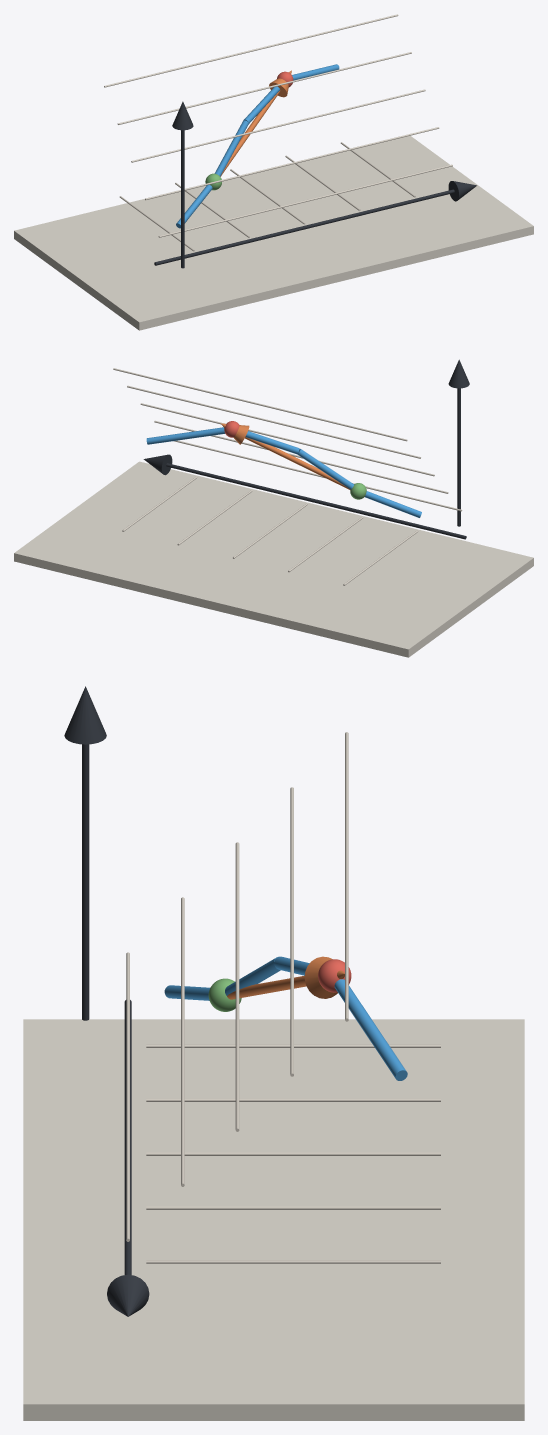
File: math-advanced-math-calc-rate-of-change.glb
3 views of the same model, one above another, from view 1: azimuth 30°, elevation 25°; view 2: azimuth 150°, elevation 25°; view 3: azimuth 270°, elevation 25° (orthographic). The views are drawn at different scales.
Parts seen in each view (by area): view 1: advanced-math-base, math-calc-rate-of-change-x-axis-shaft, math-calc-rate-of-change-horizontal-grid-5, math-calc-rate-of-change-horizontal-grid-3, math-calc-rate-of-change-horizontal-grid-1, math-calc-rate-of-change-horizontal-grid-2, math-calc-rate-of-change-horizontal-grid-4, math-calc-rate-of-change-y-axis-shaft, smooth-function-curve-segment-2, average-change-arrow-shaft; view 2: advanced-math-base, math-calc-rate-of-change-x-axis-shaft, math-calc-rate-of-change-horizontal-grid-4, math-calc-rate-of-change-horizontal-grid-5, math-calc-rate-of-change-horizontal-grid-3, math-calc-rate-of-change-horizontal-grid-1, math-calc-rate-of-change-horizontal-grid-2, smooth-function-curve-segment-4, average-change-arrow-shaft, math-calc-rate-of-change-y-axis-shaft, smooth-function-curve-segment-2, smooth-function-curve-segment-1 (+2 smaller); view 3: advanced-math-base, math-calc-rate-of-change-y-axis-shaft, smooth-function-curve-segment-4, math-calc-rate-of-change-x-axis-shaft, math-calc-rate-of-change-horizontal-grid-3, math-calc-rate-of-change-y-axis-head, math-calc-rate-of-change-x-axis-head, math-calc-rate-of-change-vertical-grid-4, math-calc-rate-of-change-vertical-grid-5, math-calc-rate-of-change-vertical-grid-3, math-calc-rate-of-change-horizontal-grid-4, math-calc-rate-of-change-horizontal-grid-1 (+4 smaller).
Boxes of the visible parts, box(x1,y1,x2,y2) form: advanced-math-base: box(14, 135, 533, 330); math-calc-rate-of-change-x-axis-shaft: box(154, 189, 454, 265); math-calc-rate-of-change-horizontal-grid-5: box(104, 14, 398, 87); math-calc-rate-of-change-horizontal-grid-3: box(131, 89, 425, 162); math-calc-rate-of-change-horizontal-grid-1: box(158, 164, 452, 237); math-calc-rate-of-change-horizontal-grid-2: box(145, 127, 439, 200); math-calc-rate-of-change-horizontal-grid-4: box(117, 52, 411, 124); math-calc-rate-of-change-y-axis-shaft: box(181, 130, 184, 268); smooth-function-curve-segment-2: box(214, 120, 248, 176); average-change-arrow-shaft: box(220, 90, 280, 176); advanced-math-base: box(14, 461, 533, 657); math-calc-rate-of-change-x-axis-shaft: box(166, 463, 466, 539); math-calc-rate-of-change-horizontal-grid-4: box(127, 385, 420, 458); math-calc-rate-of-change-horizontal-grid-5: box(113, 368, 407, 441); math-calc-rate-of-change-horizontal-grid-3: box(140, 403, 434, 476); math-calc-rate-of-change-horizontal-grid-1: box(173, 440, 462, 511); math-calc-rate-of-change-horizontal-grid-2: box(154, 420, 448, 493); smooth-function-curve-segment-4: box(146, 427, 224, 444); average-change-arrow-shaft: box(245, 437, 350, 490); math-calc-rate-of-change-y-axis-shaft: box(457, 388, 460, 526); smooth-function-curve-segment-2: box(297, 449, 354, 489); smooth-function-curve-segment-1: box(365, 491, 421, 517); advanced-math-base: box(23, 1019, 524, 1420); math-calc-rate-of-change-y-axis-shaft: box(82, 744, 89, 1020); smooth-function-curve-segment-4: box(334, 979, 407, 1080); math-calc-rate-of-change-x-axis-shaft: box(124, 1000, 131, 1274); math-calc-rate-of-change-horizontal-grid-3: box(235, 842, 239, 1131); math-calc-rate-of-change-y-axis-head: box(64, 686, 106, 744); math-calc-rate-of-change-x-axis-head: box(107, 1274, 149, 1316); math-calc-rate-of-change-vertical-grid-4: box(146, 1206, 440, 1209); math-calc-rate-of-change-vertical-grid-5: box(146, 1260, 440, 1263); math-calc-rate-of-change-vertical-grid-3: box(146, 1152, 440, 1155); math-calc-rate-of-change-horizontal-grid-4: box(290, 787, 293, 1076); math-calc-rate-of-change-horizontal-grid-1: box(126, 952, 129, 1241).
Size of what is drawn, in the model's own units: 3 by 1.48 by 1.65.
